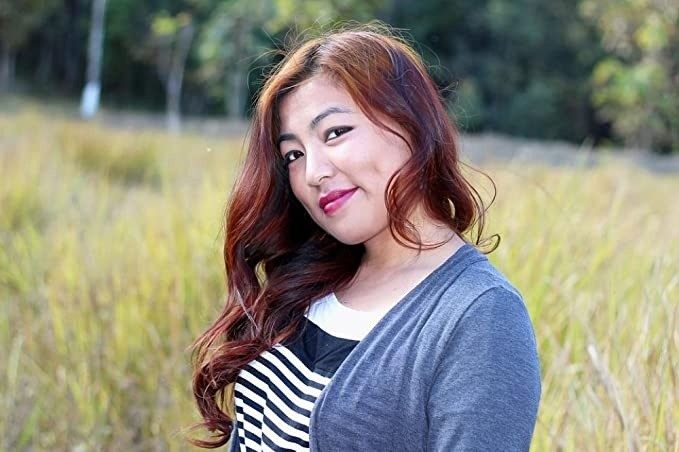face_no_mask: (267, 34, 448, 250)
